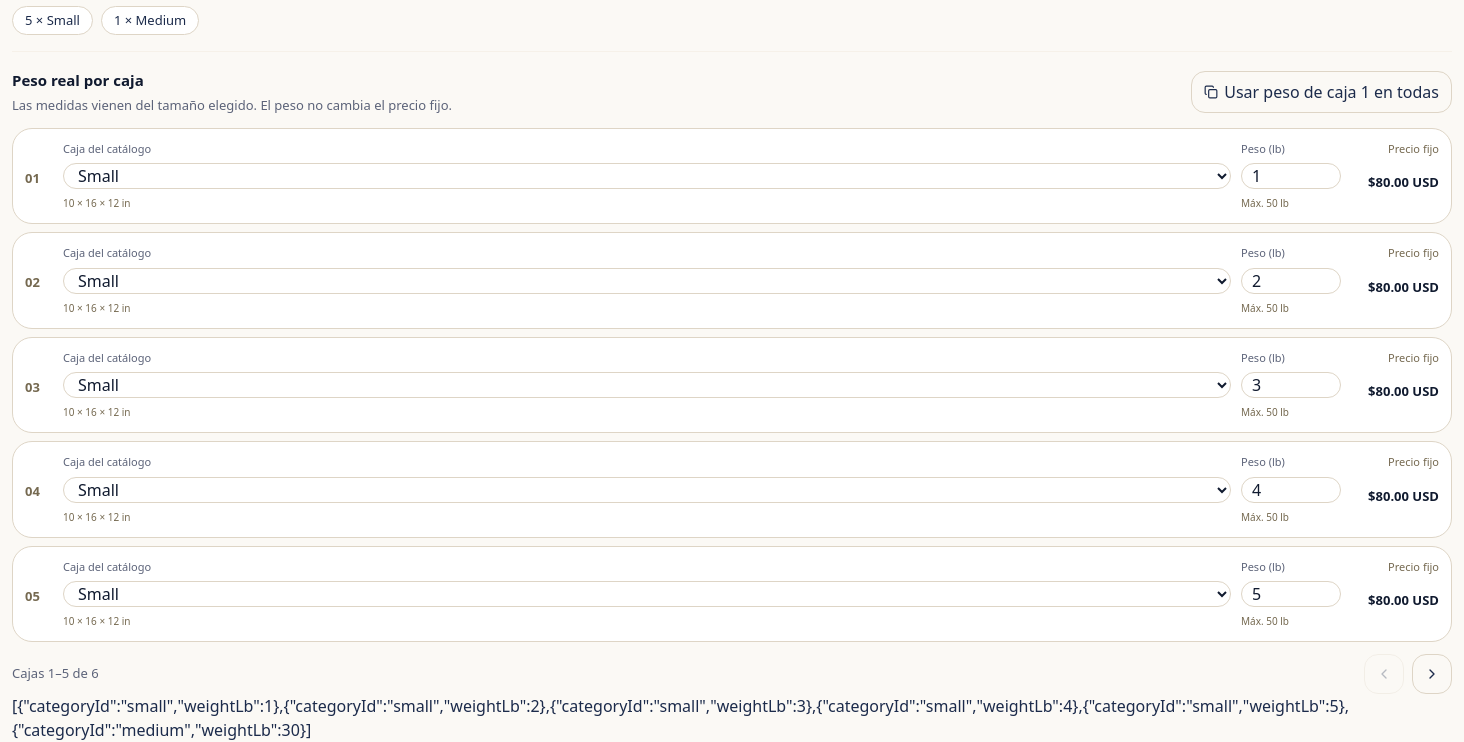
Test: keeps independent weights through pagination and clamps the last page after removal
(page scrolled)
Click the button named "Cajas siguientes".
click(1432, 674)  # box [1412,654,1452,694]
(page scrolled)
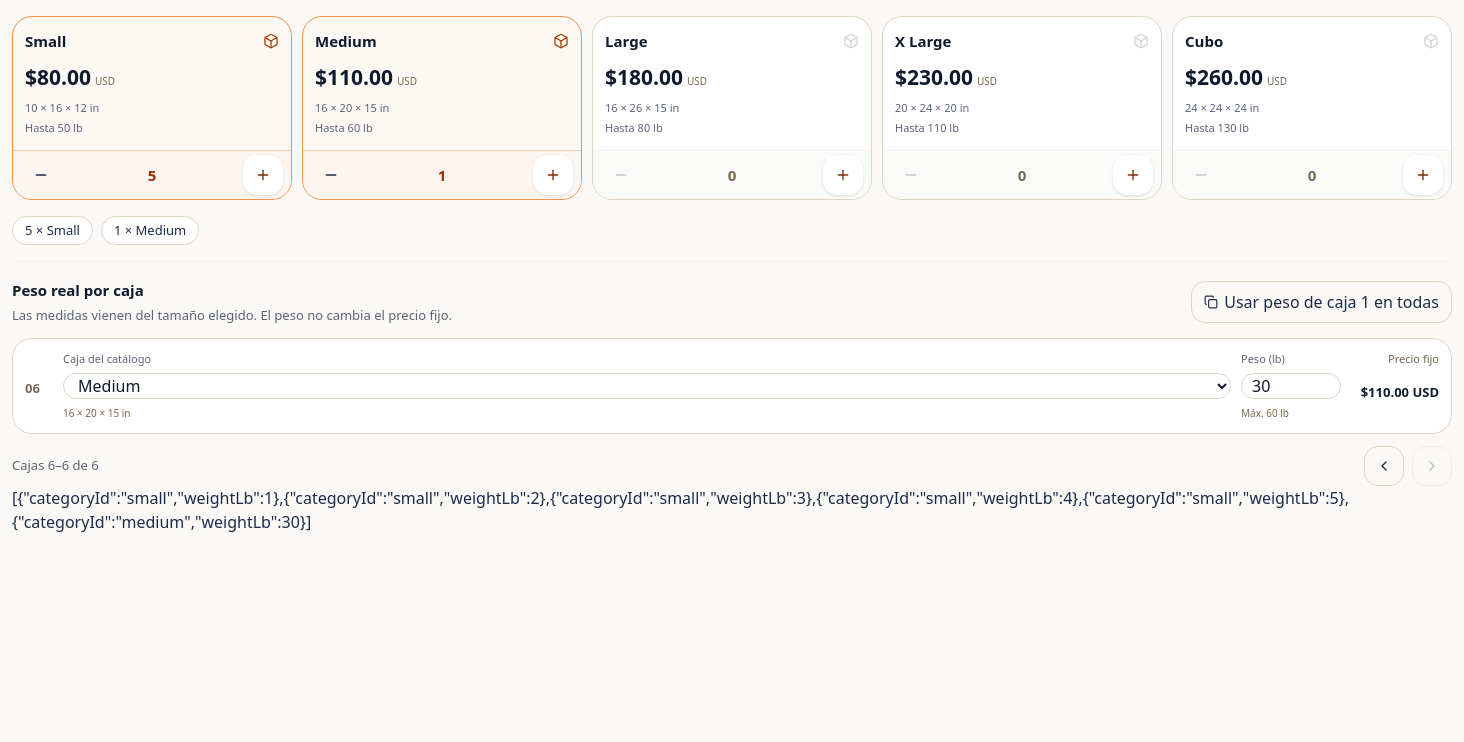
Expected: the number field labelled "Peso (lb) Máx. 60 lb" holds "30", [1241,373,1341,399]
Click the button named "Quitar caja Small".
click(41, 174)  # box [21,154,61,194]
(page scrolled)
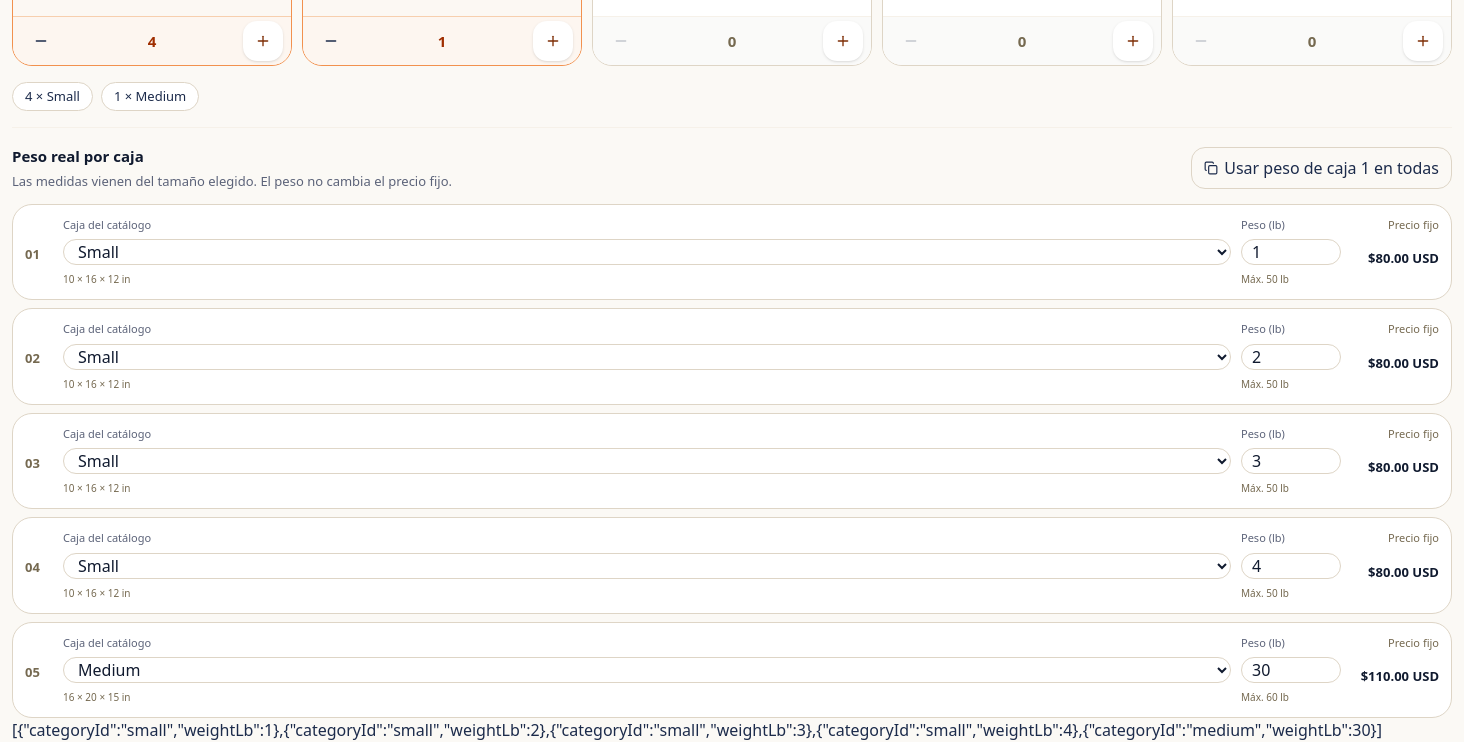
Expected: the number field labelled "Peso (lb) Máx. 60 lb" holds "30", [1241,657,1341,683]
